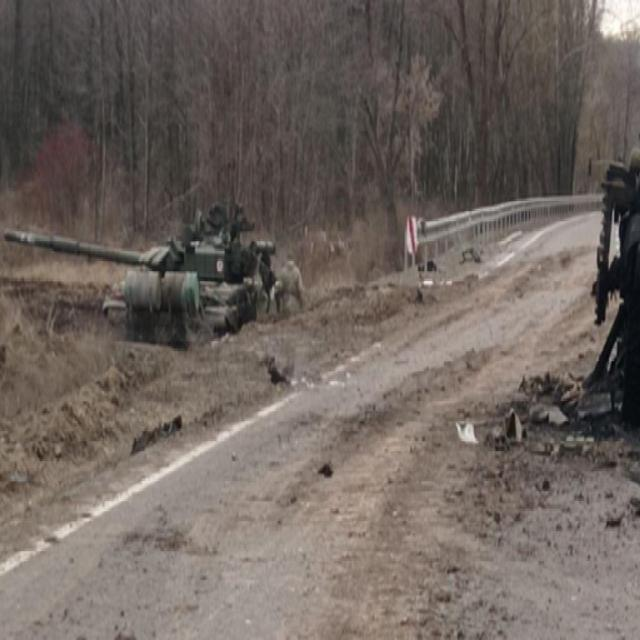TANK: (1, 202, 275, 349)
